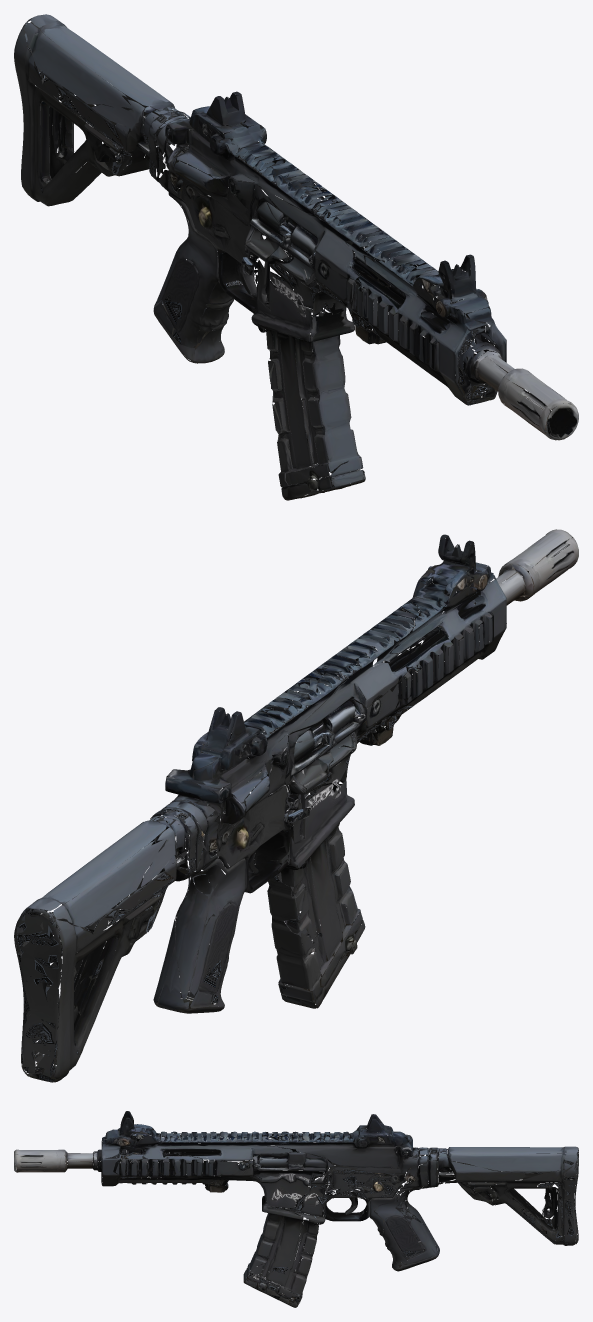
Rendered from vector.glb.
The picture shows the model from 3 angles, top to bottom: view 1: azimuth 30°, elevation 25°; view 2: azimuth 150°, elevation 25°; view 3: azimuth 270°, elevation 25°; orthographic projection. The views are drawn at different scales.
Parts seen in each view (by area): view 1: node_0; view 2: node_0; view 3: node_0.
Part boxes in pixels (x1=…): node_0: x1=14, y1=14, x2=578, y2=500; node_0: x1=14, y1=529, x2=578, y2=1082; node_0: x1=14, y1=1111, x2=578, y2=1307.
Size of the model in its own units: 0.0889 by 0.4327 by 1.17.
1 material, 1 textured.
